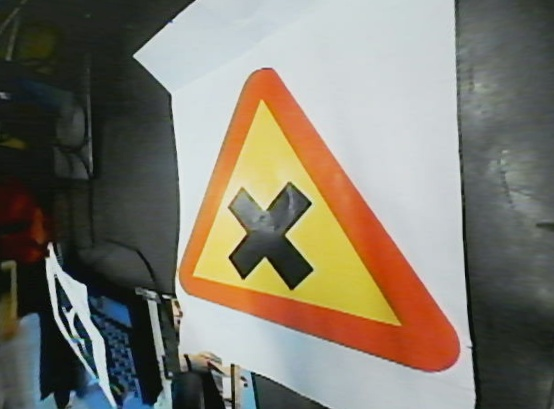junction: (172, 66, 463, 379)
